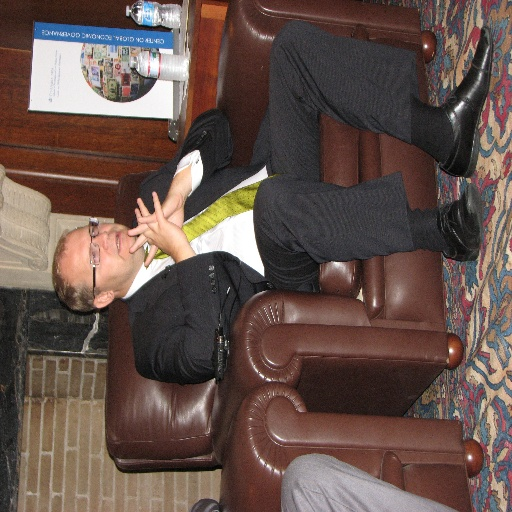hand: (134, 191, 183, 257)
